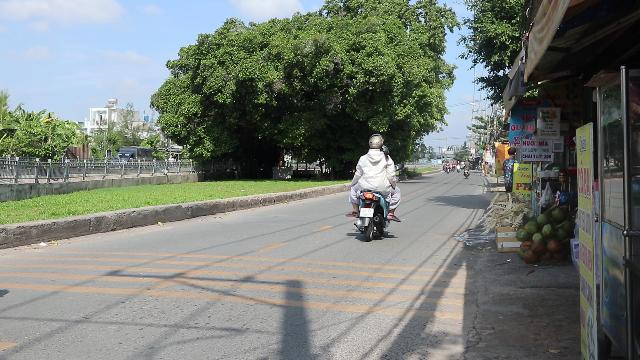helmet: (366, 134, 384, 152)
licenseplate: (359, 207, 373, 217)
motorcyclist: (346, 133, 402, 239)
